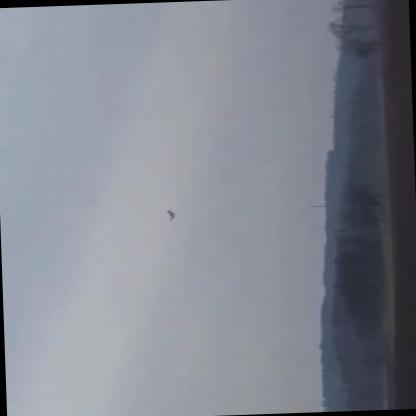plane: (168, 209, 178, 220)
